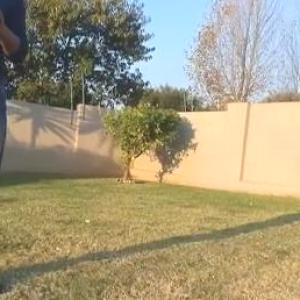follow: (0, 0, 29, 298)
